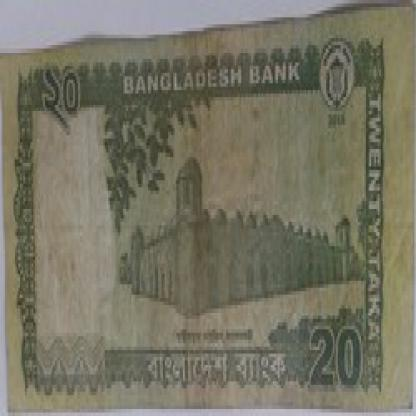Twenty: (308, 322, 364, 406), (40, 62, 91, 136)
